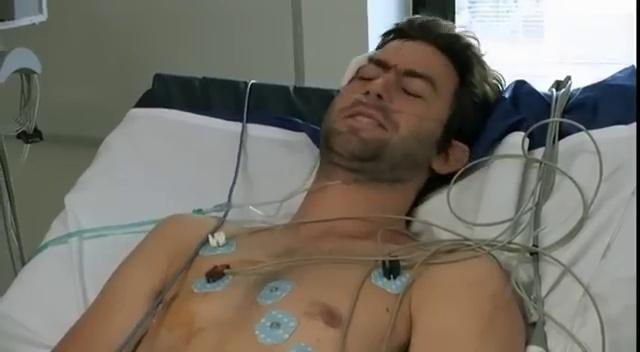patient: (47, 14, 530, 350)
